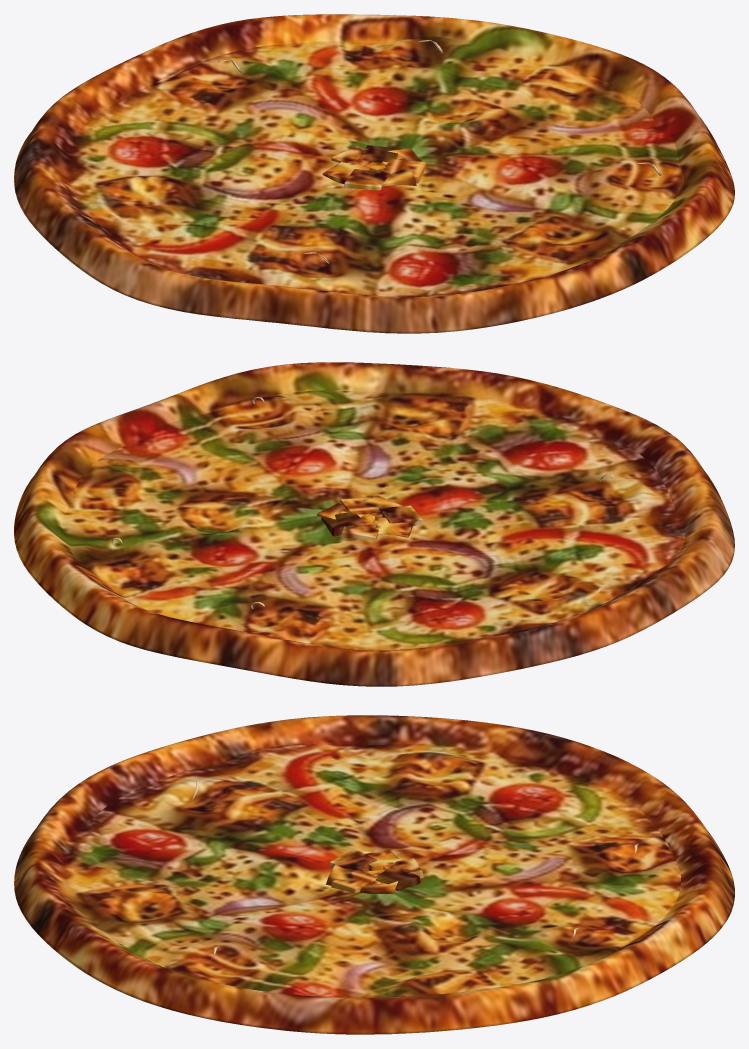
File: tandoori-paneer-pizza-balanced.glb
3 renders of one model, top to bottom at view 1: azimuth 30°, elevation 25°; view 2: azimuth 150°, elevation 25°; view 3: azimuth 270°, elevation 25°, orthographic.
Parts seen in each view (by area): view 1: Pizza_Molten_Mozzarella_Bed, Pizza_Neapolitan_Crust, Paneer_07_BottomLeft, Paneer_05_BottomRight, Paneer_02_TopRight, Paneer_08_MidLeft; view 2: Pizza_Molten_Mozzarella_Bed, Pizza_Neapolitan_Crust, Paneer_02_TopRight, Paneer_07_BottomLeft; view 3: Pizza_Molten_Mozzarella_Bed, Pizza_Neapolitan_Crust, Paneer_02_TopRight, Paneer_07_BottomLeft, Paneer_05_BottomRight.
Boxes of the visible parts, x1,y1,x2,y2 form: Pizza_Molten_Mozzarella_Bed: (67,36,683,296); Pizza_Neapolitan_Crust: (14,14,734,333); Paneer_07_BottomLeft: (344,169,389,190); Paneer_05_BottomRight: (383,159,426,183); Paneer_02_TopRight: (359,145,401,162); Paneer_08_MidLeft: (322,162,371,183); Pizza_Molten_Mozzarella_Bed: (62,390,684,650); Pizza_Neapolitan_Crust: (14,362,734,686); Paneer_02_TopRight: (321,512,367,536); Paneer_07_BottomLeft: (378,505,422,526); Pizza_Molten_Mozzarella_Bed: (64,743,681,997); Pizza_Neapolitan_Crust: (14,715,734,1034); Paneer_02_TopRight: (376,865,420,890); Paneer_07_BottomLeft: (329,849,377,871); Paneer_05_BottomRight: (331,869,378,893).
Bounding box in the file's own units: 2.37 × 0.1271 × 2.37.
11 materials, 3 textured.
